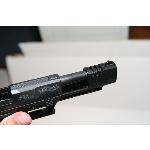Pistol: (0, 59, 118, 123)
